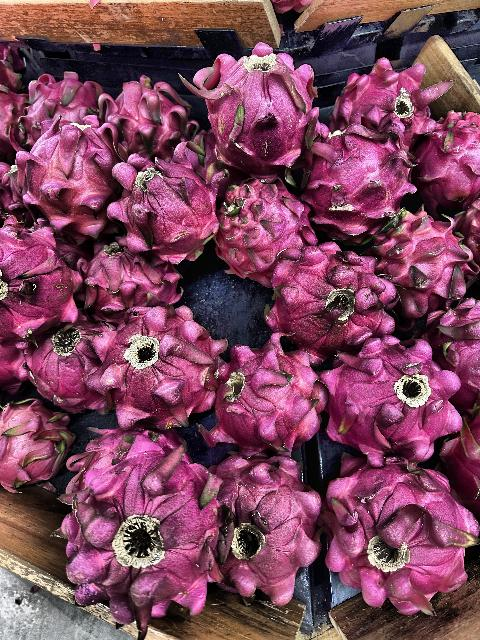buah-naga-matang: (61, 456, 224, 630), (312, 454, 480, 608), (320, 333, 464, 461), (186, 44, 320, 174), (79, 302, 223, 422), (207, 456, 323, 600), (197, 328, 334, 448), (264, 242, 398, 342), (105, 152, 227, 255), (15, 122, 123, 238), (298, 125, 408, 235), (209, 171, 320, 275), (364, 208, 472, 306), (0, 220, 80, 344), (65, 242, 189, 318), (332, 56, 444, 130), (15, 70, 112, 150), (25, 334, 113, 414), (410, 112, 480, 210), (104, 84, 190, 162), (0, 398, 72, 490)
